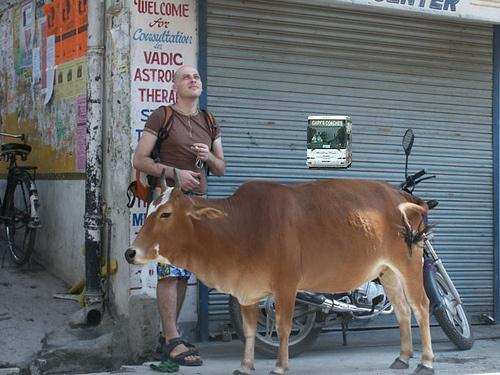tampered: (307, 117, 352, 169)
